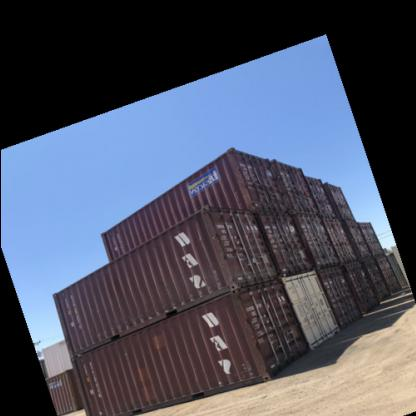Damage: (237, 308, 258, 352)
